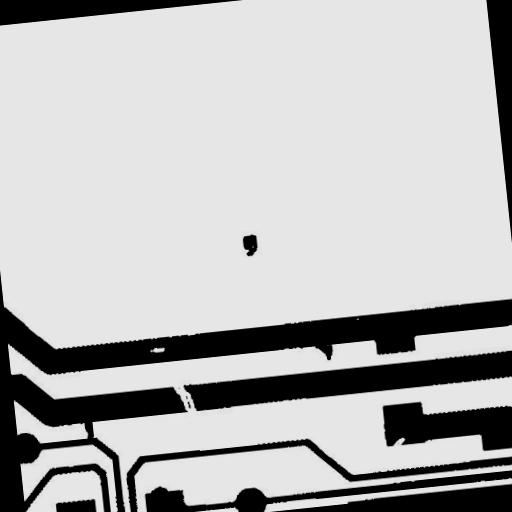copper: (234, 226, 266, 264)
mousebite: (383, 428, 414, 456)
open: (164, 374, 205, 423)
pin-hole: (142, 338, 174, 362)
short: (75, 408, 102, 448)
spur: (306, 332, 342, 370), (142, 478, 176, 504)
